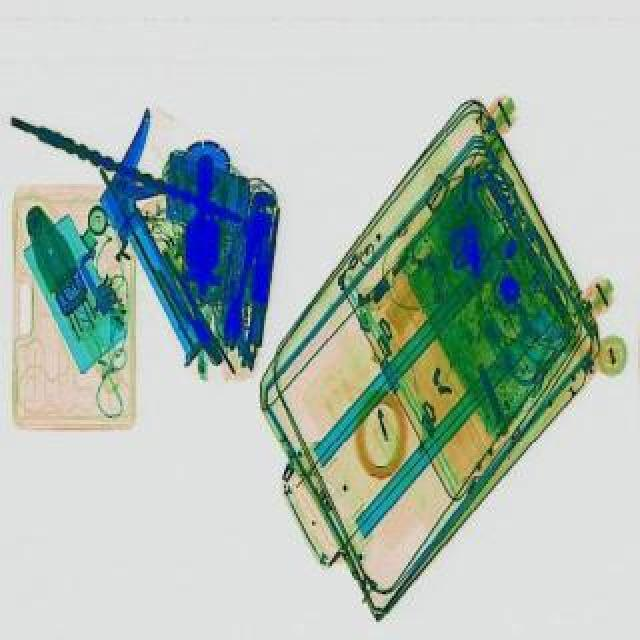scissors: (216, 188, 268, 348)
